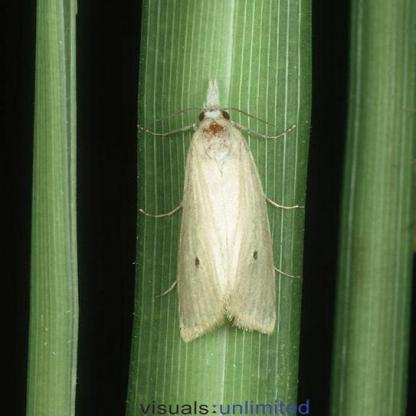stem-borer: (148, 76, 291, 348)
